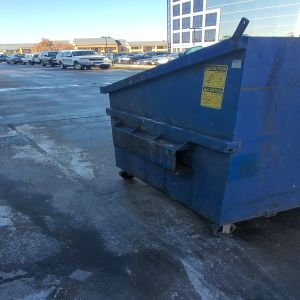Dumpster: (106, 36, 300, 239)
